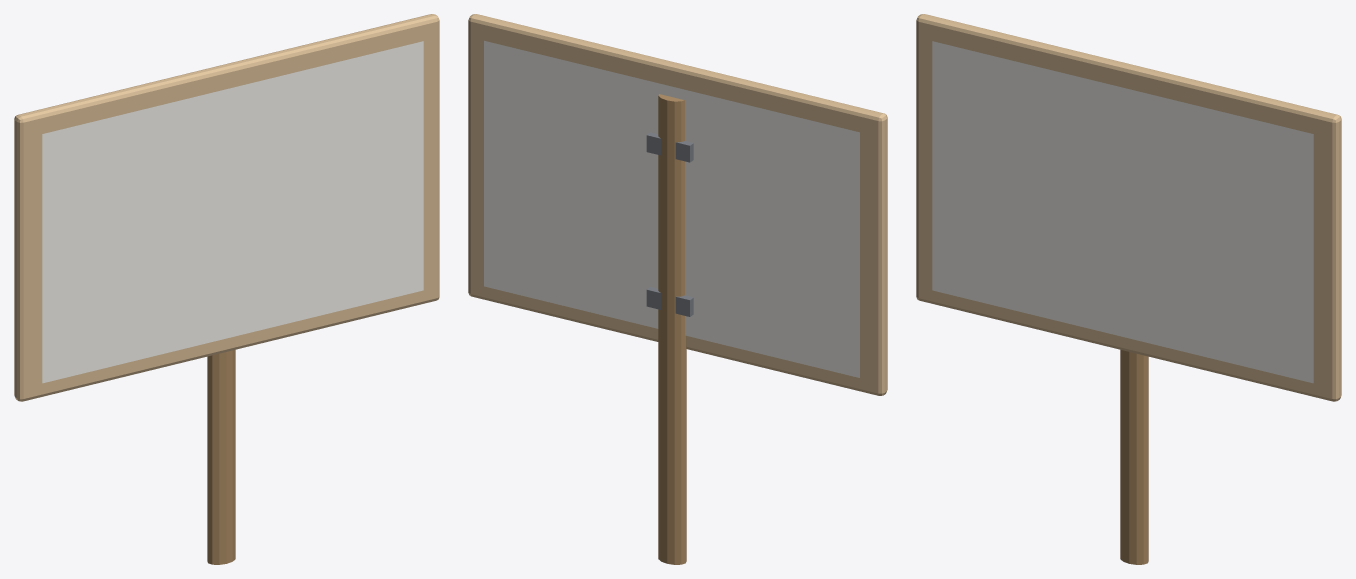
File: handheld_sign.glb
3 renders of one model, left to right at view 1: azimuth 30°, elevation 25°; view 2: azimuth 150°, elevation 25°; view 3: azimuth 330°, elevation 25°, orthographic.
Visible parts, largest first — view 1: Sign_Board_Face, Sign_Placard_Backing, Sign_Wooden_Stick; view 2: Sign_Board_Face, Sign_Placard_Backing, Sign_Wooden_Stick, Sign_Clamp_6, Sign_Clamp_28; view 3: Sign_Board_Face, Sign_Placard_Backing, Sign_Wooden_Stick.
Boxes of the visible parts, bbox=[...] form: Sign_Board_Face: bbox=[42, 41, 423, 383]; Sign_Placard_Backing: bbox=[14, 14, 439, 401]; Sign_Wooden_Stick: bbox=[207, 350, 235, 564]; Sign_Board_Face: bbox=[484, 40, 859, 377]; Sign_Placard_Backing: bbox=[468, 14, 887, 395]; Sign_Wooden_Stick: bbox=[658, 94, 686, 564]; Sign_Clamp_6: bbox=[646, 287, 693, 316]; Sign_Clamp_28: bbox=[646, 132, 693, 162]; Sign_Board_Face: bbox=[932, 41, 1313, 383]; Sign_Placard_Backing: bbox=[916, 14, 1341, 401]; Sign_Wooden_Stick: bbox=[1120, 350, 1148, 564].
Size of the model in its own units: 0.62 by 0.7 by 0.043.
